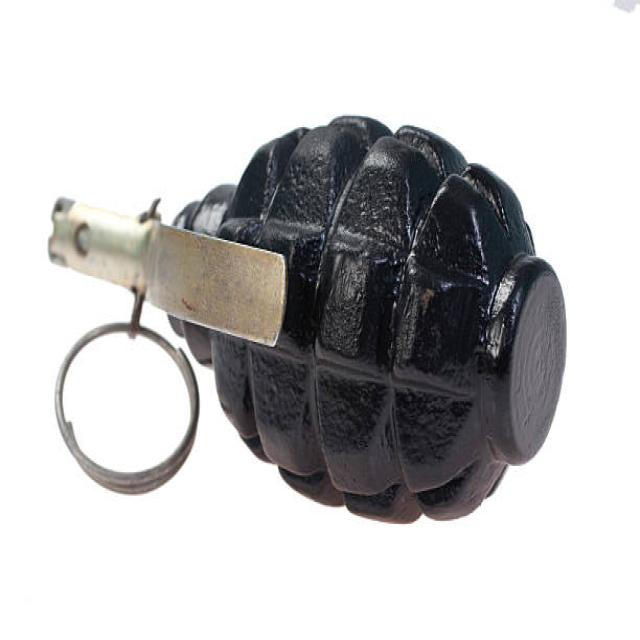grenade: (41, 103, 577, 552)
